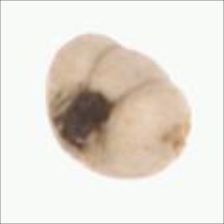L5: (86, 42, 173, 107), (49, 85, 118, 152)
L6: (43, 30, 195, 181)
